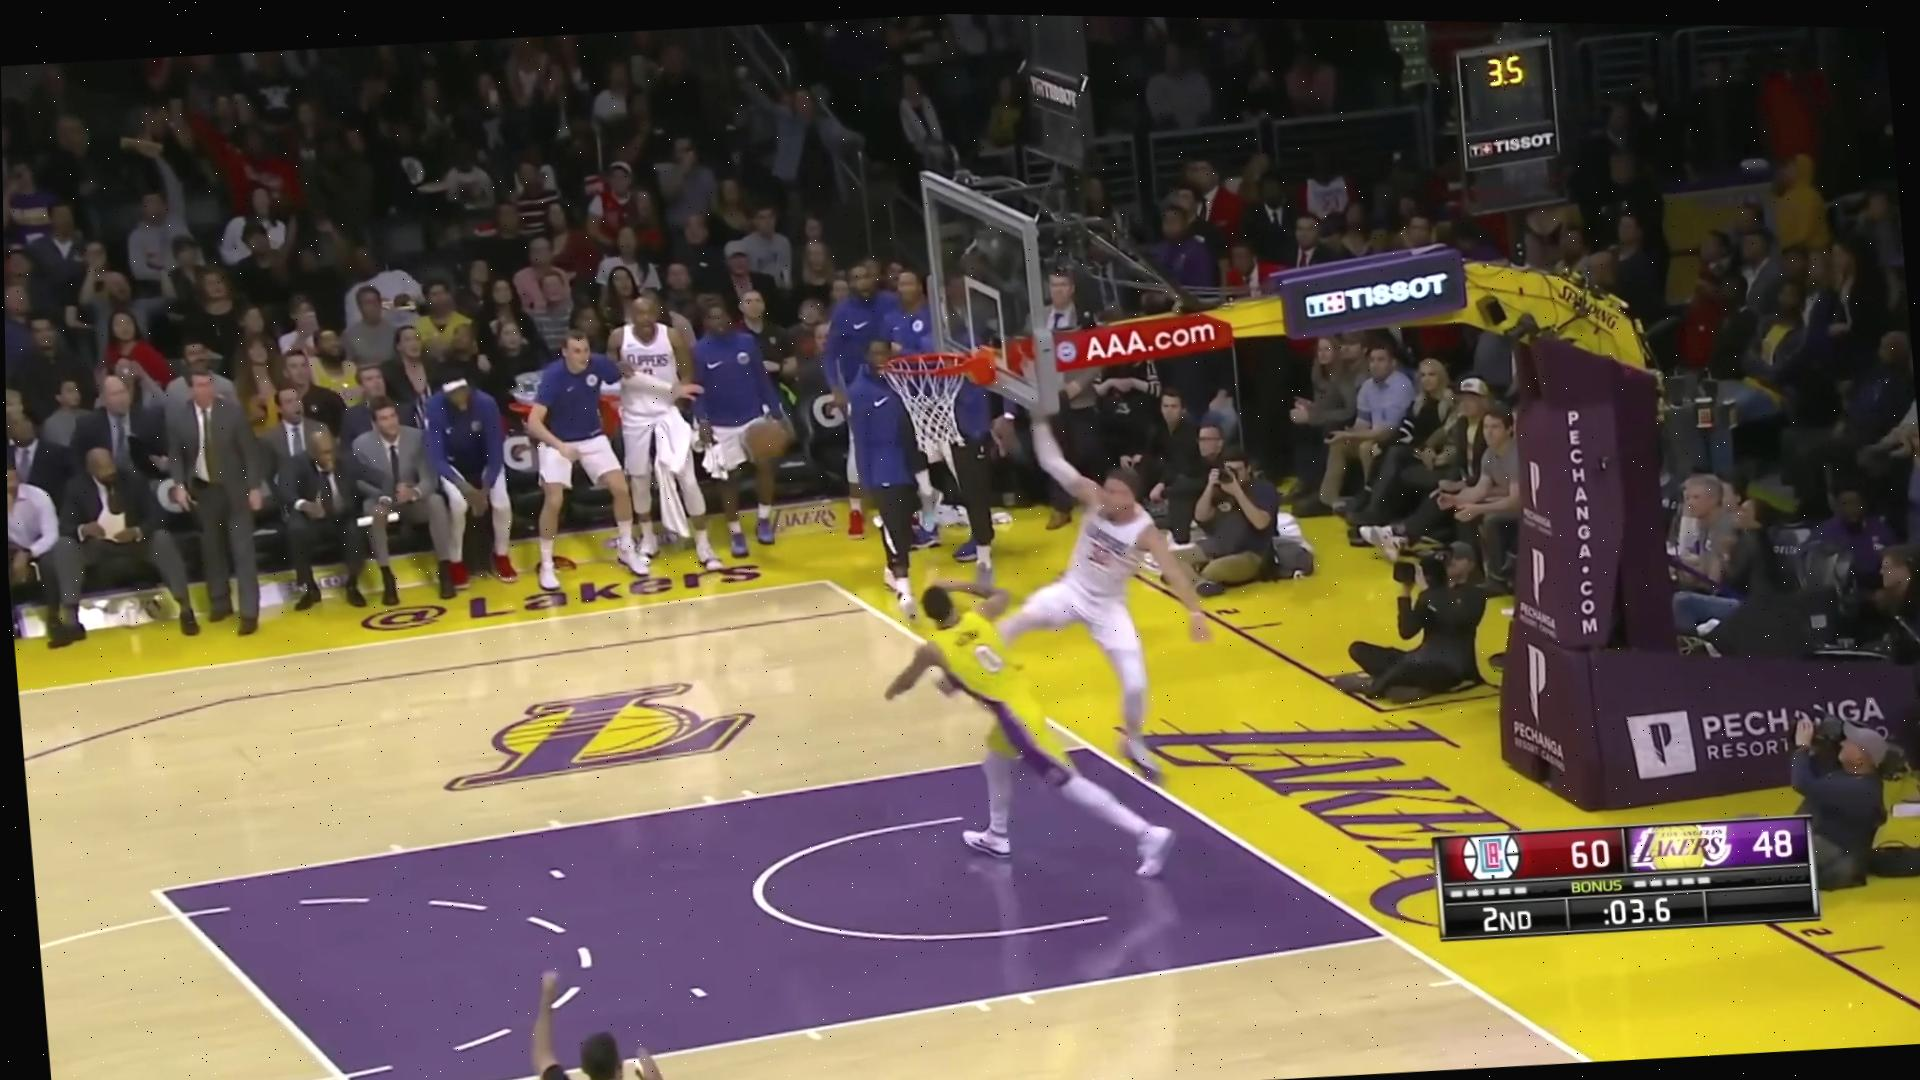foul: (869, 435, 1200, 828)
